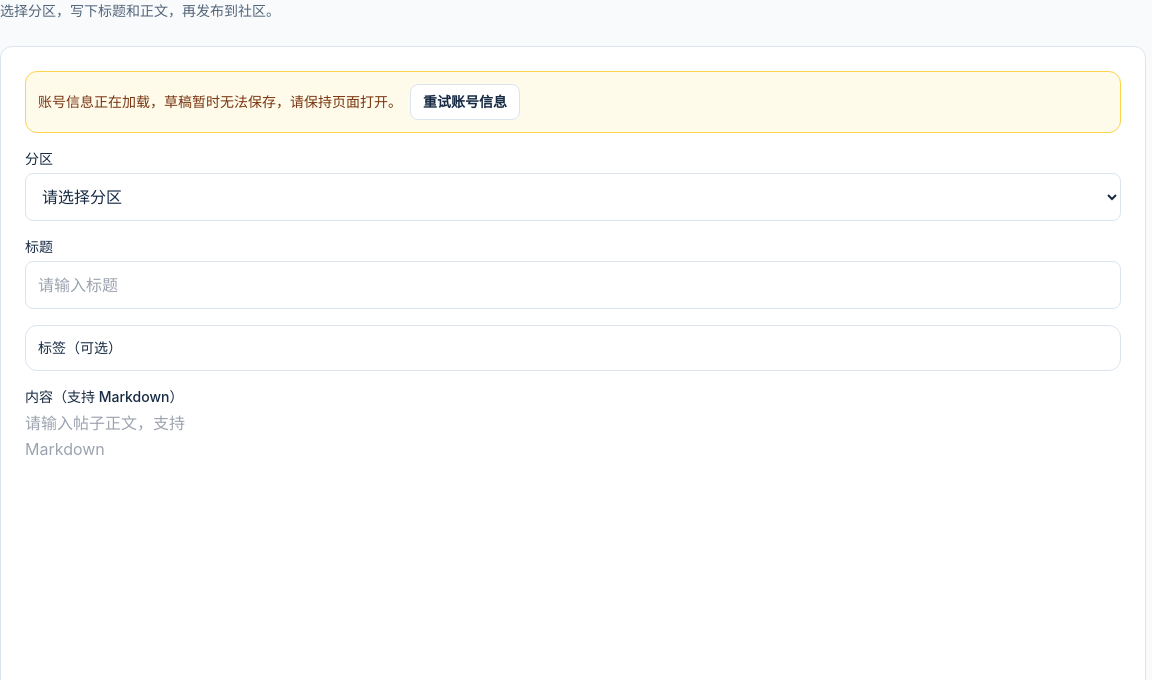
Test: ThreadCreate › fills only empty fields from a preexisting owner draft after hydration
The image size is (1152, 680).
Type "当前输入标题" into the field with id "thread-create-title" at (573, 285), box [25,261,1121,309]
(page scrolled)
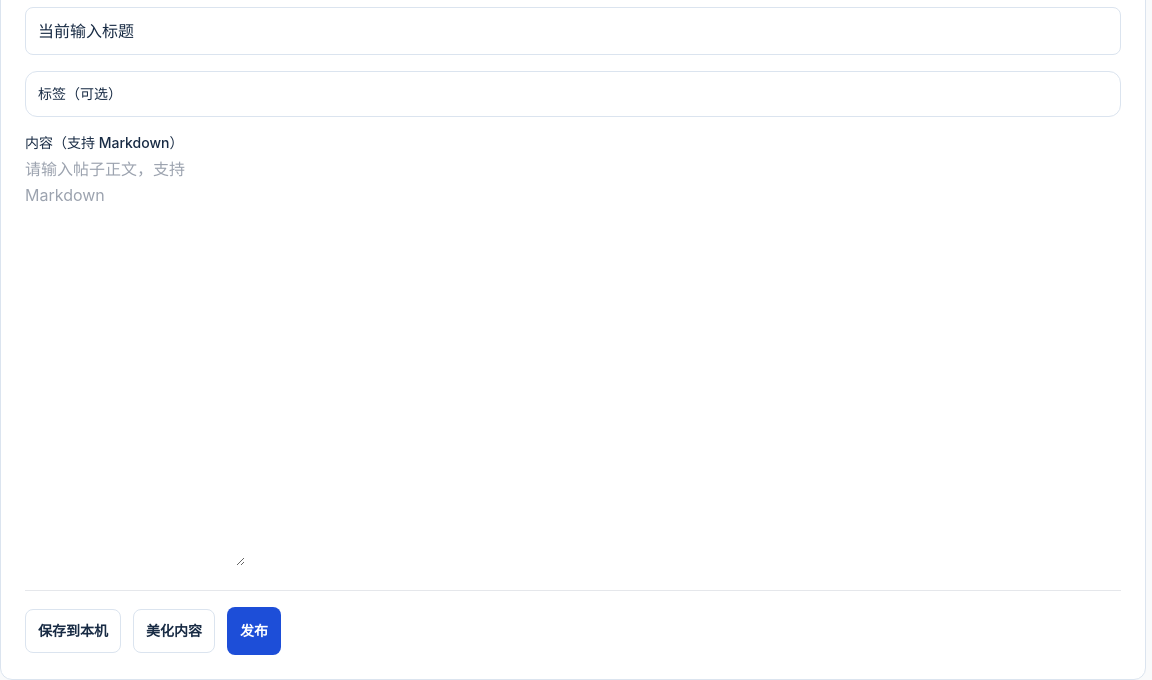
Type "当前输入正文" into the text box with placeholder "请输入帖子正文，支持 Markdown" at (135, 362), box [25,157,245,566]
(page scrolled)
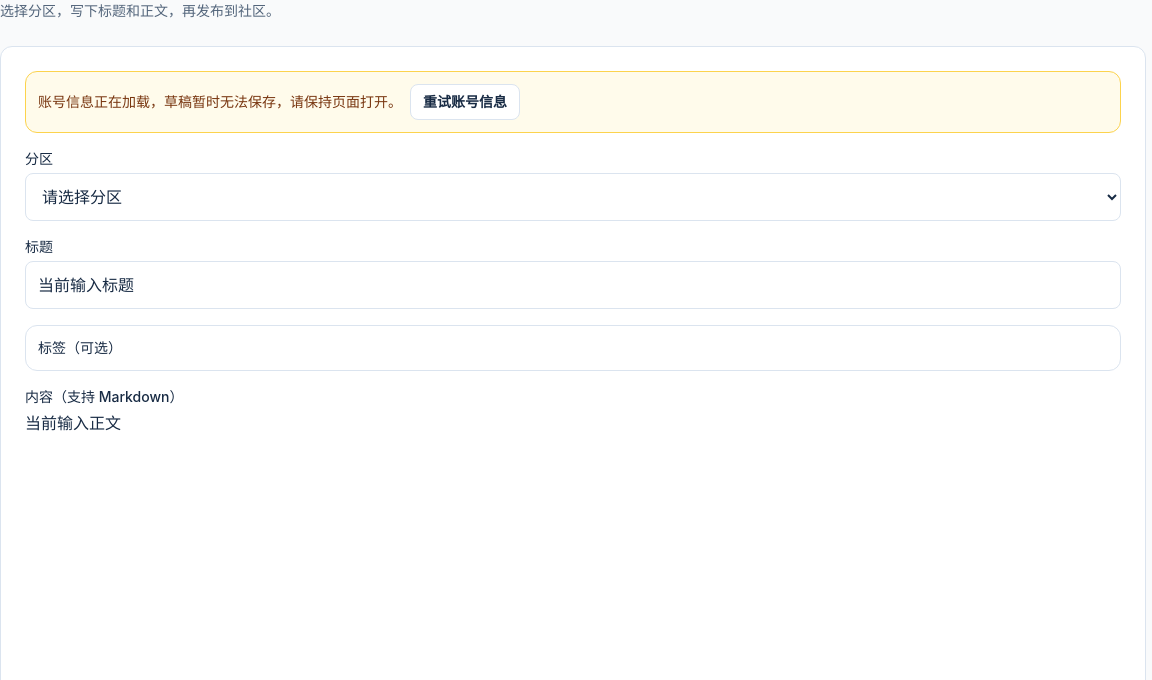
Click the button "重试账号信息" at (465, 102), box [410,84,520,120]
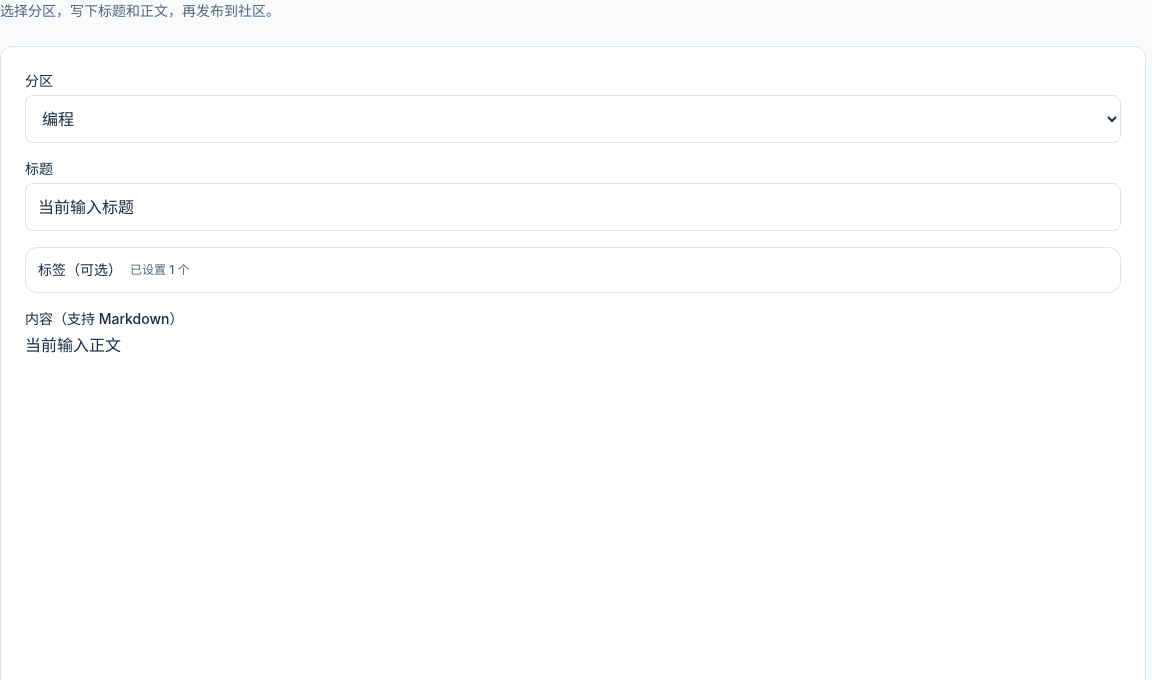
Expected: the element with id "thread-create-tags" holds "已保存标签", [25,247,1121,293]
Expected: the dropdown labelled "分区" shows "编程", [25,95,1121,143]
